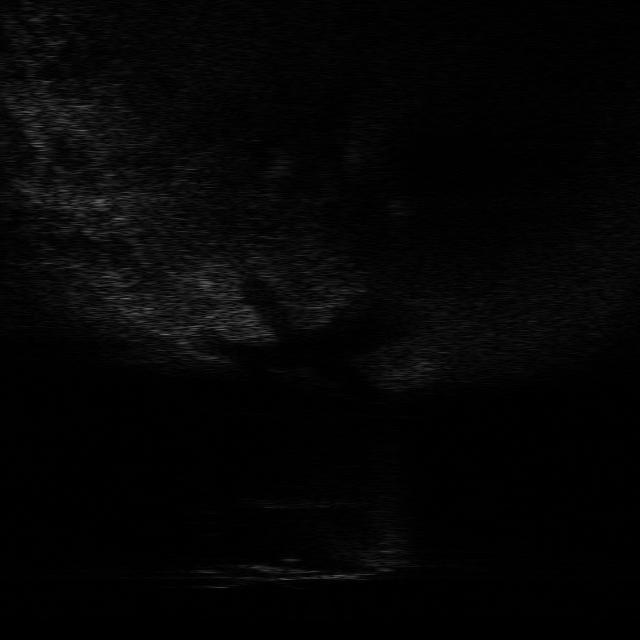plane: (188, 525, 418, 592)
